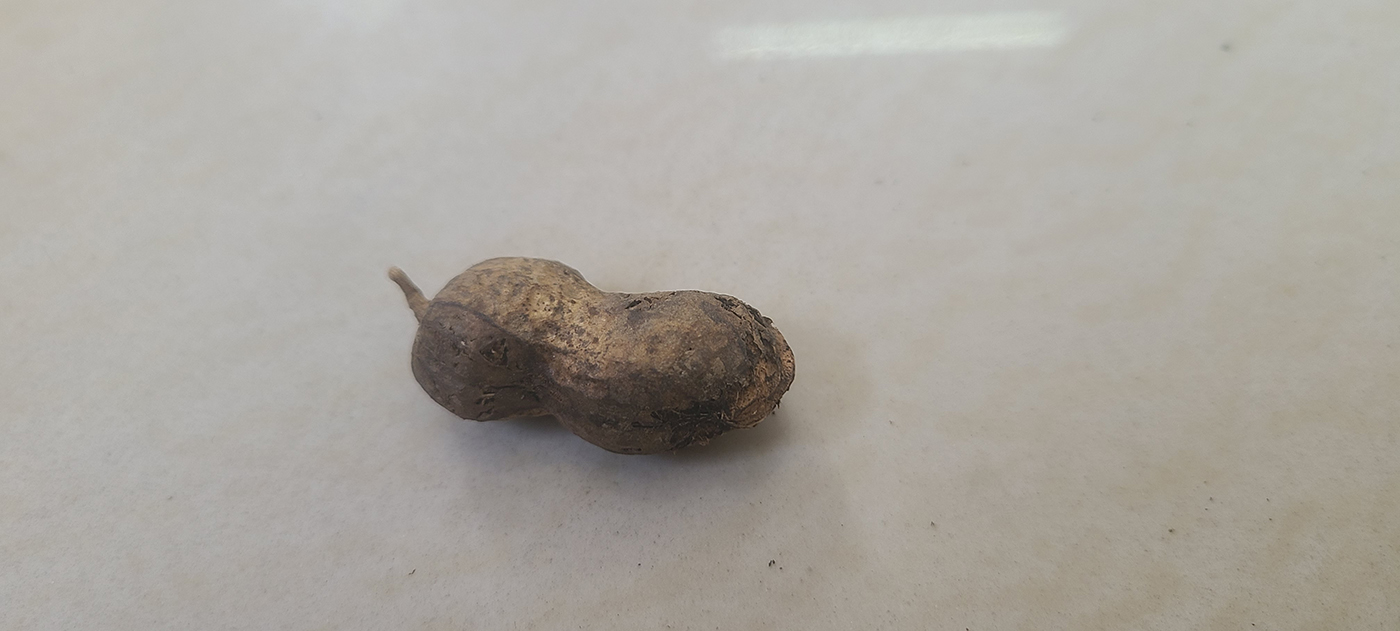l: (386, 248, 799, 454)
